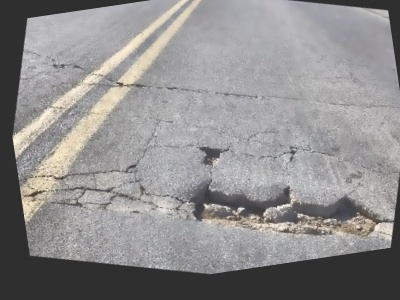pothole: (174, 145, 395, 272), (192, 139, 228, 171)
